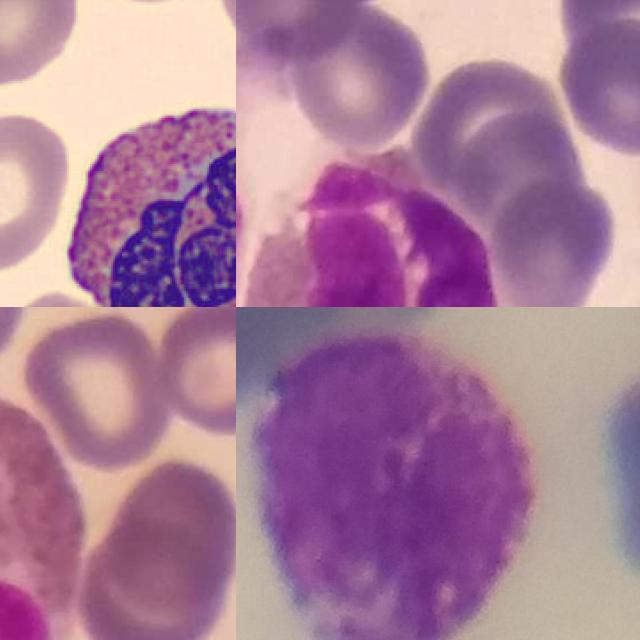Basophil: (253, 328, 537, 640)
Eosinophil: (241, 151, 505, 307), (52, 84, 236, 307), (0, 385, 88, 640)
RBC: (0, 105, 73, 273), (0, 0, 82, 88)
